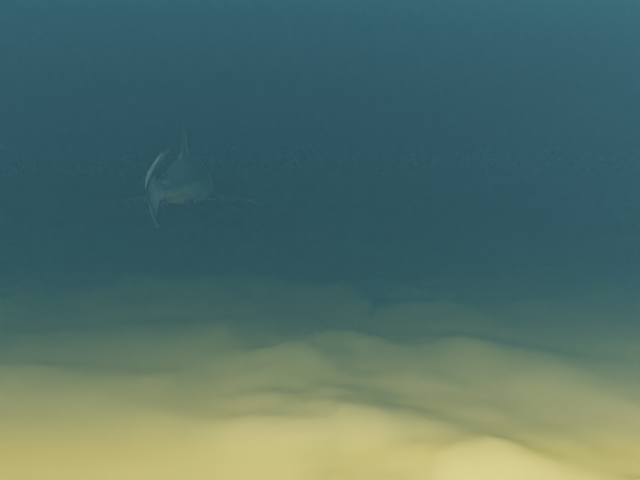Carribean Shark.001: (108, 126, 265, 227)
